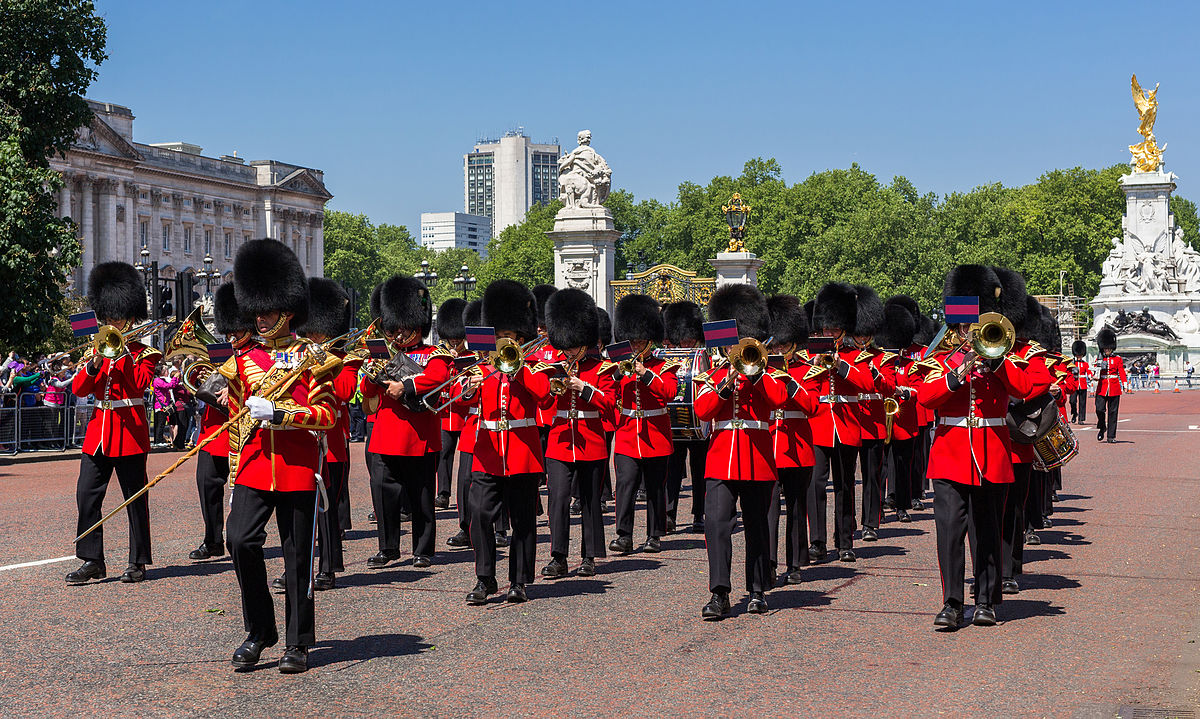feet: (215, 602, 323, 677), (59, 529, 163, 591), (690, 569, 781, 629), (922, 578, 1008, 635), (268, 550, 348, 598), (462, 557, 532, 610), (181, 513, 249, 562), (542, 531, 606, 579), (363, 534, 438, 572), (609, 515, 672, 560), (448, 516, 511, 552), (798, 529, 861, 564), (751, 555, 814, 589), (840, 509, 889, 543), (1094, 426, 1121, 445), (1070, 410, 1088, 426)
